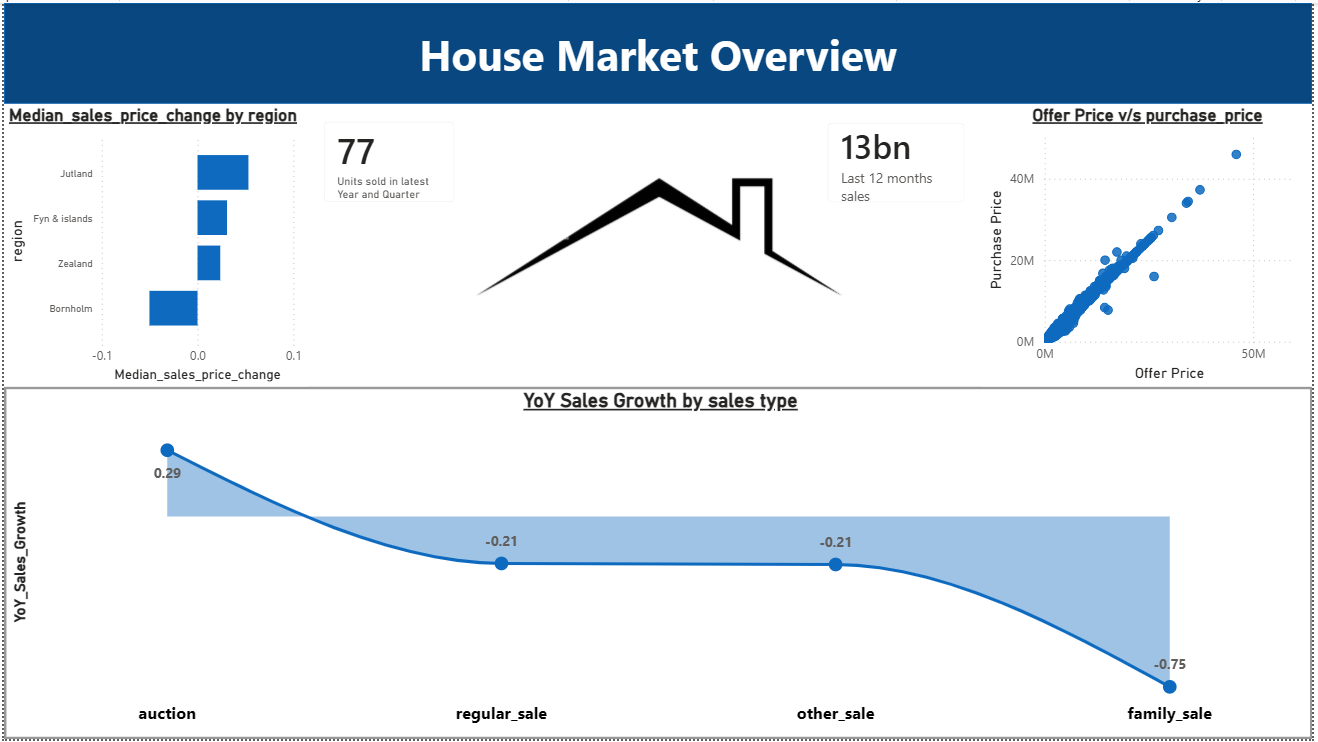

Layout of this report page (visuals, bound fields, positions):
{"tool":"powerbi","page":{"name":"House_Market","canvas":[1280,720],"ordinal":0},"visuals":[{"type":"shape","box":[0,0,1280,98.8],"z":0},{"type":"lineChart","title":"YoY Sales Growth by sales type","fields":{"Y":["Housing Data.YoY_sales_growth"],"Category":["Housing Data.sales_type"]},"box":[0,375,1280,345],"z":1000},{"type":"image","box":[0,108.8,1280,250],"z":2000},{"type":"scatterChart","title":"Offer Price v/s purchase_price","fields":{"X":["Housing Data.Offer Price"],"Y":["Housing Data.purchase_price"]},"box":[957.5,98.8,322.5,276.2],"z":3000},{"type":"barChart","fields":{"Y":["Housing Data.Median_sales_price_change"],"Category":["Housing Data.region"]},"box":[0,98.8,296.2,276.2],"z":4000},{"type":"cardVisual","fields":{"Data":["Housing Data.Units sold in latest Year and Quarter"]},"box":[296.2,98.8,162.5,113.8],"z":5000},{"type":"cardVisual","fields":{"Data":["Housing Data.Last 12 months sales"]},"box":[788.8,100,168.8,112.5],"z":6000}]}

Visuals, with their boxes in screenshot pixels (x1, y1, x2, y2), scaled from the page's 1280x720 canvas onto the 1318x742 screenshot:
shape: crop(0, 0, 1317, 102)
"YoY Sales Growth by sales type" lineChart: crop(0, 386, 1317, 741)
image: crop(0, 112, 1317, 370)
"Offer Price v/s purchase_price" scatterChart: crop(986, 102, 1317, 386)
barChart - Housing Data.Median_sales_price_change x Housing Data.region: crop(0, 102, 305, 386)
cardVisual - Housing Data.Units sold in latest Year and Quarter: crop(305, 102, 472, 219)
cardVisual - Housing Data.Last 12 months sales: crop(812, 103, 986, 219)
